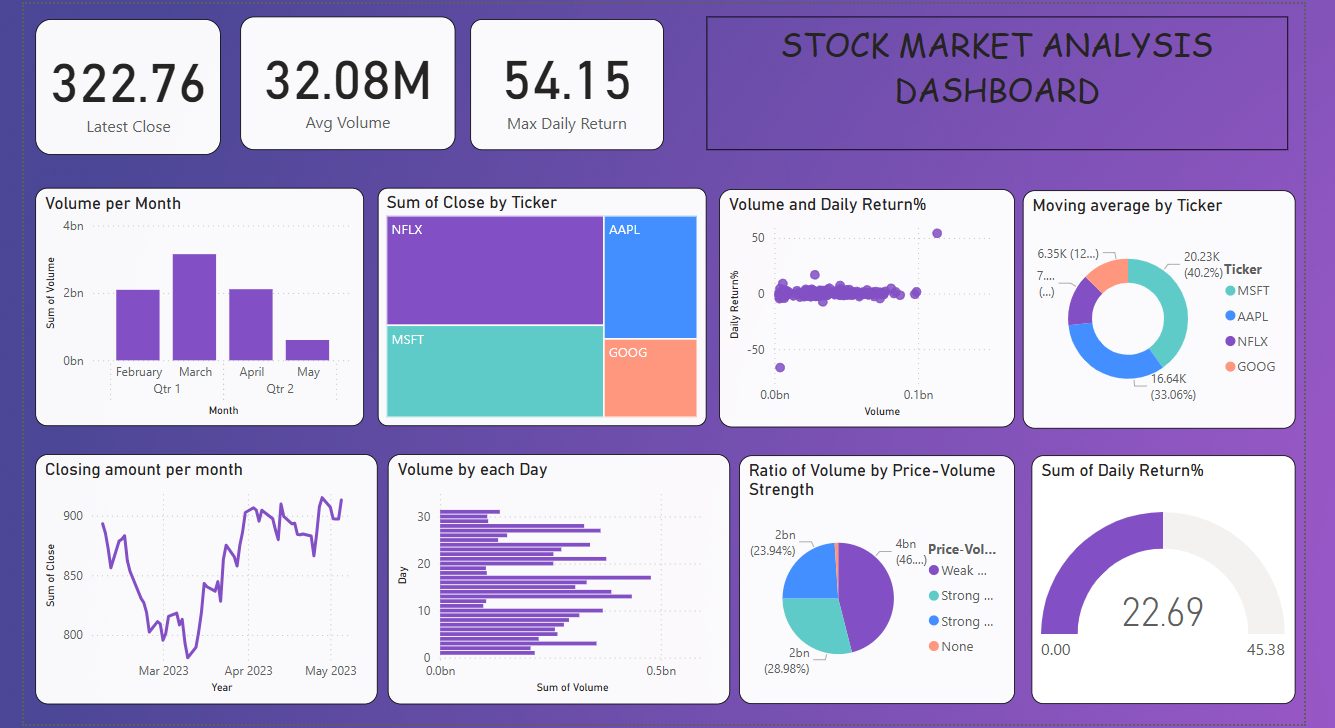

The page's visual inventory and layout, read from the dashboard file:
{"tool":"powerbi","page":{"name":"Page 1","canvas":[1280,720],"ordinal":0},"visuals":[{"type":"lineChart","title":"Closing amount per month","fields":{"Y":["Sum(stocks.Close)"],"Category":["stocks.Date.Variation.Date Hierarchy.Year","stocks.Date.Variation.Date Hierarchy.Quarter","stocks.Date.Variation.Date Hierarchy.Month","stocks.Date.Variation.Date Hierarchy.Day"]},"box":[11.2,450,342.5,250],"z":0},{"type":"barChart","title":" Volume by each Day","fields":{"Category":["stocks.Date.Variation.Date Hierarchy.Day"],"Y":["Sum(stocks.Volume)"]},"box":[363.8,450,342.5,250],"z":1000},{"type":"treemap","fields":{"Group":["stocks.Ticker"],"Values":["Sum(stocks.Close)"]},"box":[353.8,183.8,328.8,238.8],"z":2000},{"type":"pieChart","title":"Ratio of Volume by Price-Volume Strength","fields":{"Category":["stocks.Price-Volume Strength"],"Y":["Sum(stocks.Volume)"]},"box":[715,451.2,276.2,248.8],"z":3000},{"type":"scatterChart","fields":{"X":["stocks.Volume"],"Y":["stocks.Daily Return%"]},"box":[695,185,296.2,238.8],"z":4000},{"type":"card","fields":{"Values":["stocks.Latest Close"]},"box":[11,14.7,185.9,135.7],"z":5000},{"type":"card","fields":{"Values":["stocks.Avg Volume"]},"box":[216.2,12.5,215,133.8],"z":6000},{"type":"textbox","box":[682.5,12.5,581.2,133.8],"z":7000},{"type":"columnChart","title":"Volume per Month","fields":{"Y":["Sum(stocks.Volume)"],"Category":["stocks.Date.Variation.Date Hierarchy.Quarter","stocks.Date.Variation.Date Hierarchy.Month"]},"box":[11.2,183.8,328.8,238.8],"z":8000},{"type":"card","fields":{"Values":["stocks.Max Daily Return"]},"box":[446.2,15,193.8,131.2],"z":9000},{"type":"gauge","fields":{"Y":["Sum(stocks.Daily Return%)"]},"box":[1007.5,451.2,263.8,248.8],"z":9001},{"type":"donutChart","title":" Moving average by Ticker","fields":{"Category":["stocks.Ticker"],"Y":["Sum(stocks.Moving_average)"]},"box":[998.8,186.2,272.5,238.8],"z":9002}]}

Visuals, with their boxes in screenshot pixels (x1, y1, x2, y2):
"Closing amount per month" lineChart: (35, 451, 376, 700)
" Volume by each Day" barChart: (386, 451, 727, 700)
treemap - stocks.Ticker x Sum(stocks.Close): (376, 186, 704, 424)
"Ratio of Volume by Price-Volume Strength" pieChart: (736, 453, 1011, 700)
scatterChart - stocks.Volume x stocks.Daily Return%: (716, 188, 1011, 425)
card - stocks.Latest Close: (35, 18, 220, 153)
card - stocks.Avg Volume: (240, 16, 453, 149)
textbox: (704, 16, 1282, 149)
"Volume per Month" columnChart: (35, 186, 363, 424)
card - stocks.Max Daily Return: (468, 18, 661, 149)
gauge - Sum(stocks.Daily Return%): (1027, 453, 1290, 700)
" Moving average by Ticker" donutChart: (1018, 189, 1290, 426)
